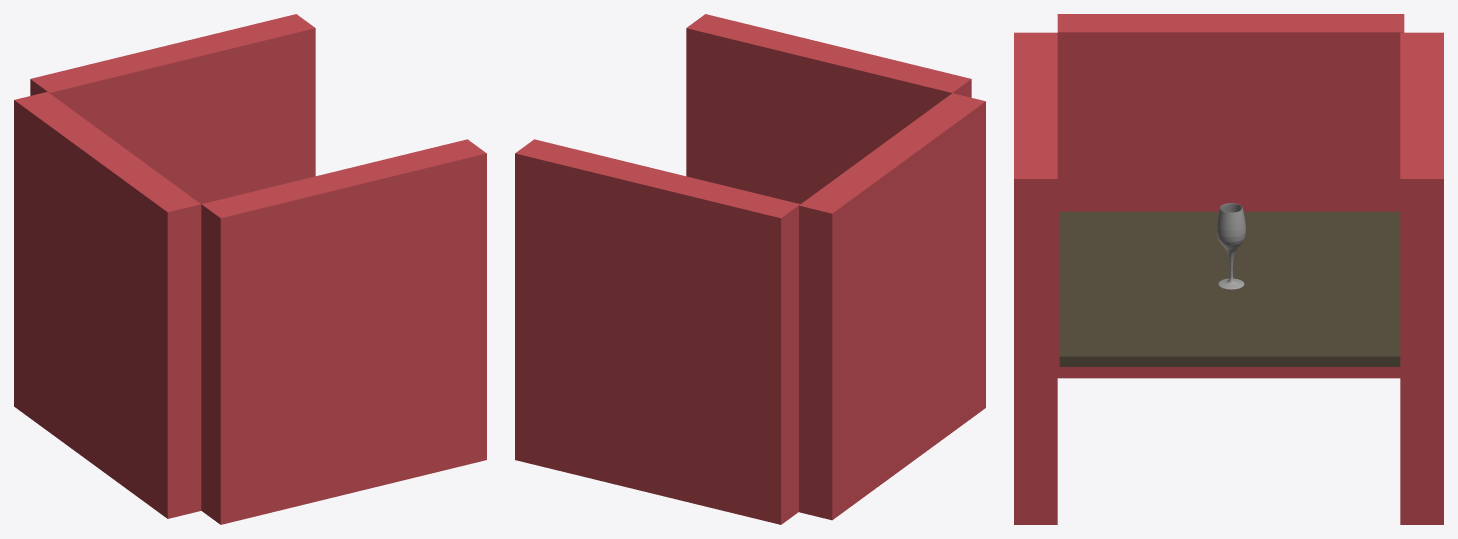
The model's file is WineGlasses8.obj.
The picture shows the model from 3 angles, left to right: view 1: azimuth 30°, elevation 25°; view 2: azimuth 150°, elevation 25°; view 3: azimuth 270°, elevation 25°; orthographic projection. The views are drawn at different scales.
Visible parts, largest first — view 1: Cube.002_Cube.007, Cube.003_Cube.006, Cube.001_Cube.004; view 2: Cube.001_Cube.004, Cube.003_Cube.006, Cube.002_Cube.007; view 3: Cube.003_Cube.006, Plane_Plane.004, Cube.002_Cube.007, Cube.001_Cube.004, Circle.
Part boxes in pixels (x1,y1,x2,y2): Cube.002_Cube.007: (201, 139, 486, 524); Cube.003_Cube.006: (14, 92, 201, 518); Cube.001_Cube.004: (30, 14, 315, 204); Cube.001_Cube.004: (515, 139, 800, 524); Cube.003_Cube.006: (799, 93, 985, 520); Cube.002_Cube.007: (686, 14, 971, 203); Cube.003_Cube.006: (1057, 14, 1404, 378); Plane_Plane.004: (1059, 211, 1400, 366); Cube.002_Cube.007: (1014, 32, 1057, 524); Cube.001_Cube.004: (1400, 32, 1443, 524); Circle: (1216, 203, 1245, 289).
Bounding box in the file's own units: 17.93 × 17.53 × 19.73.
